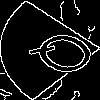Q: (24, 24, 100, 86)
